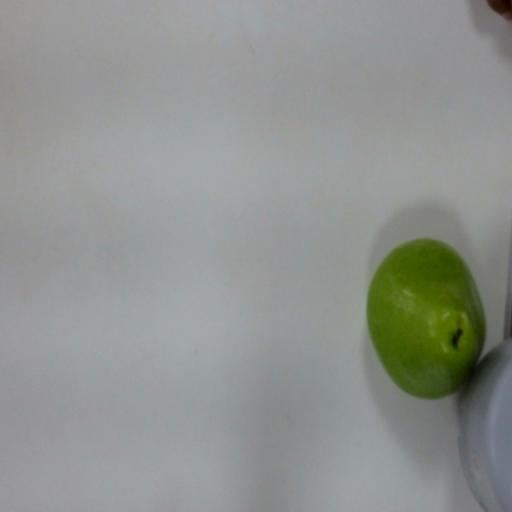Unripe: (361, 220, 490, 400)
